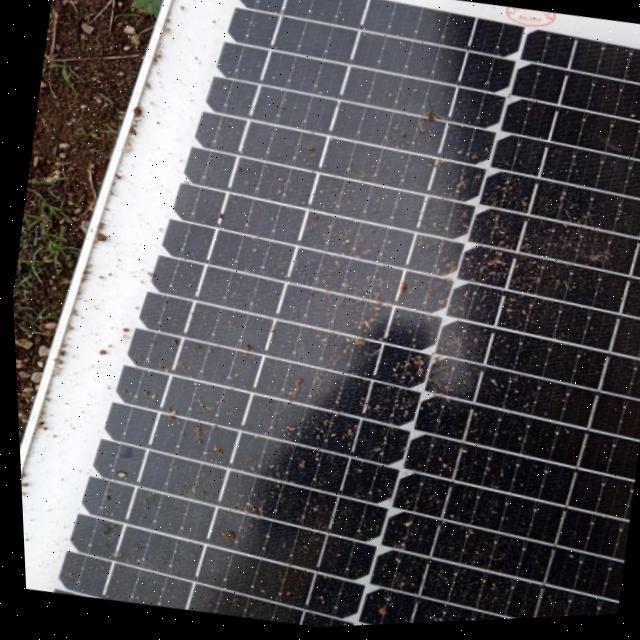Surface Contaminant: (126, 0, 640, 630)
